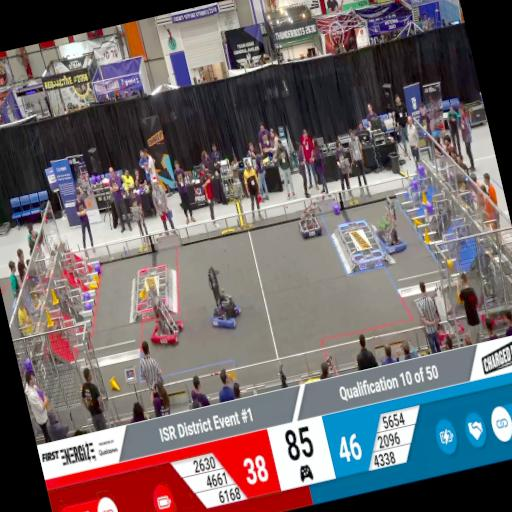robot: (428, 296, 467, 346), (144, 307, 188, 351), (204, 287, 246, 333), (374, 214, 409, 260), (473, 288, 511, 330), (295, 206, 325, 243)
